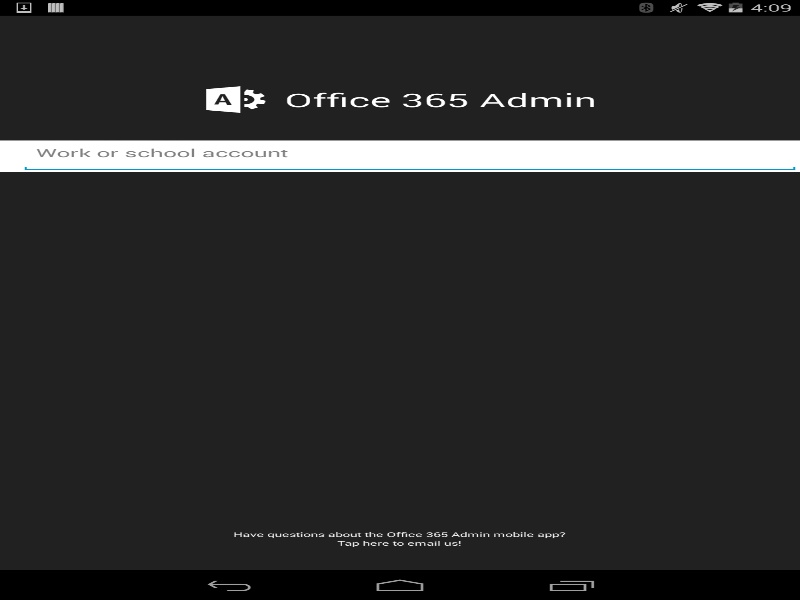Input: (20, 140, 800, 171)
